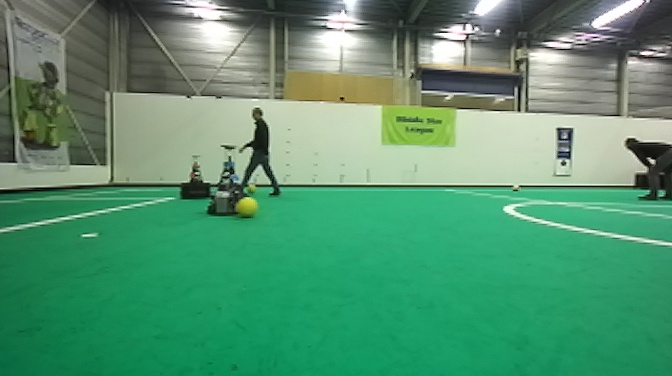ball: (236, 197, 259, 219), (244, 181, 258, 194), (509, 181, 521, 194)
human: (235, 106, 282, 198), (624, 134, 672, 202)
robot: (203, 143, 250, 217), (177, 153, 215, 201)
